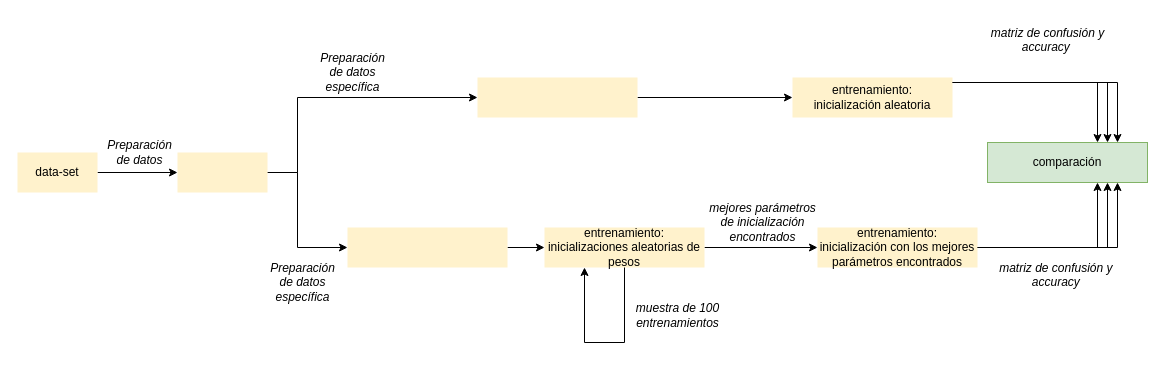
Some shapes in this 1165 by 368 pixel diagram are drawn without their labels. Each missing label, with the centre of its shape:
data-set modificado: point (222, 172)
data-set modificado para python: point (427, 247)
data-set modificado para WEKA: point (557, 97)
